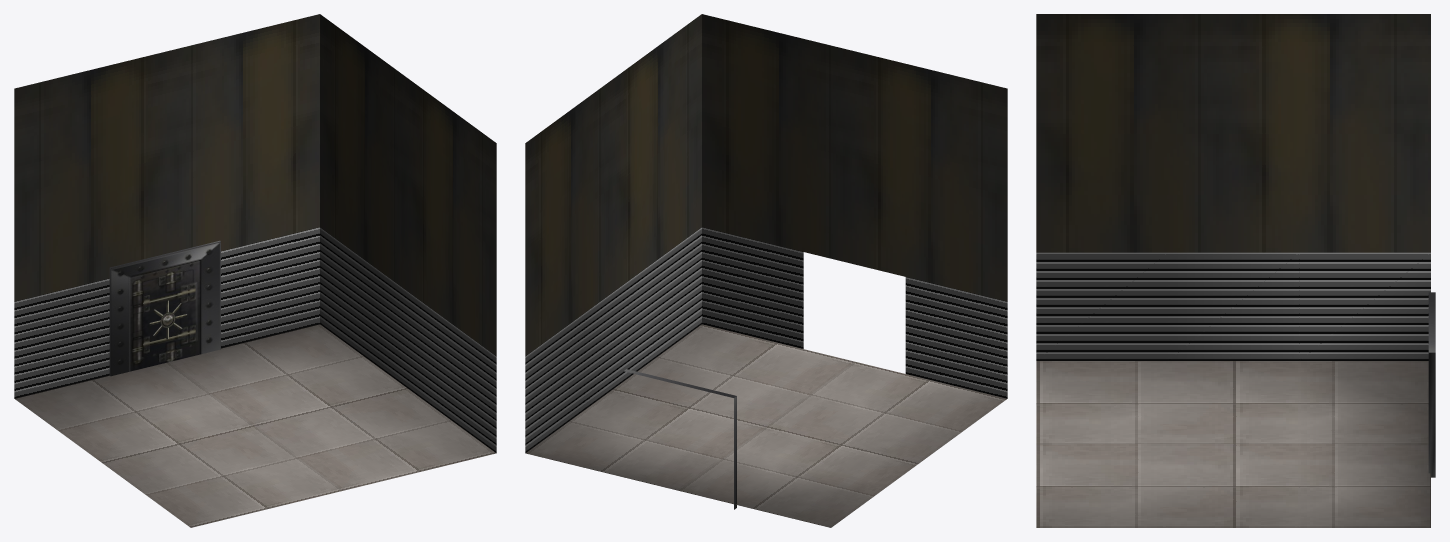
File: room_18.glb
3 views of the same model, side by side, from view 1: azimuth 30°, elevation 25°; view 2: azimuth 150°, elevation 25°; view 3: azimuth 270°, elevation 25° (orthographic). The views are drawn at different scales.
Visible parts, largest first — view 1: ShackInteriorWalls, ShackInteriorFloor, VaultDoorCover; view 2: ShackInteriorWalls, ShackInteriorFloor, VaultDoorCover; view 3: ShackInteriorWalls, ShackInteriorFloor, VaultDoorCover.
Boxes of the visible parts, x1,y1,x2,y2 form: ShackInteriorWalls: (14,14,496,453); ShackInteriorFloor: (15,324,495,527); VaultDoorCover: (109,240,220,376); ShackInteriorWalls: (525,14,1007,453); ShackInteriorFloor: (526,324,1006,527); VaultDoorCover: (624,369,736,509); ShackInteriorWalls: (1036,14,1430,360); ShackInteriorFloor: (1036,361,1430,527); VaultDoorCover: (1428,292,1435,477).
Size of the model in its own units: 45 by 44.2 by 45.51.
5 materials, 5 textured.
